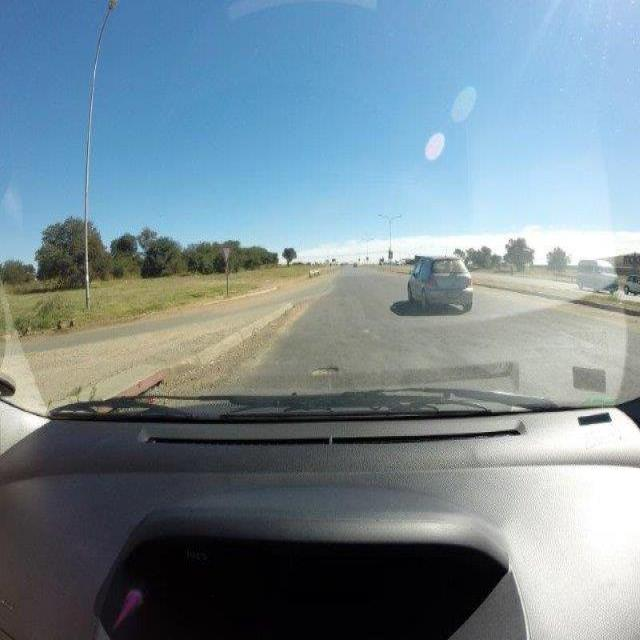lubang: (304, 363, 342, 376)
